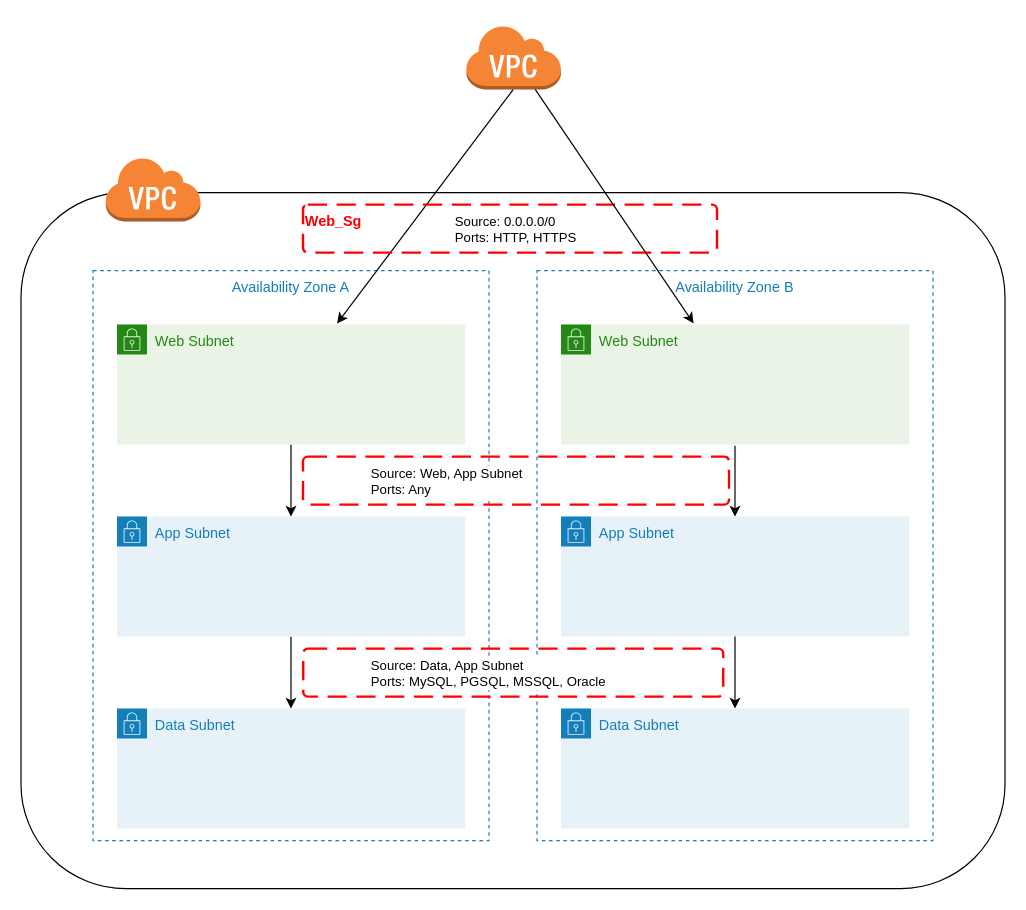
Some shapes in this 1026 by 910 pixel diagram are drawn without their labels. Here are the shapes that lost their labels. From the top down, the box of each, then its label:
(461, 20, 564, 92): Perimeter
(104, 155, 200, 221): Dev / Prod
(301, 455, 730, 505): App_Sg
(301, 647, 724, 697): Data_Sg
